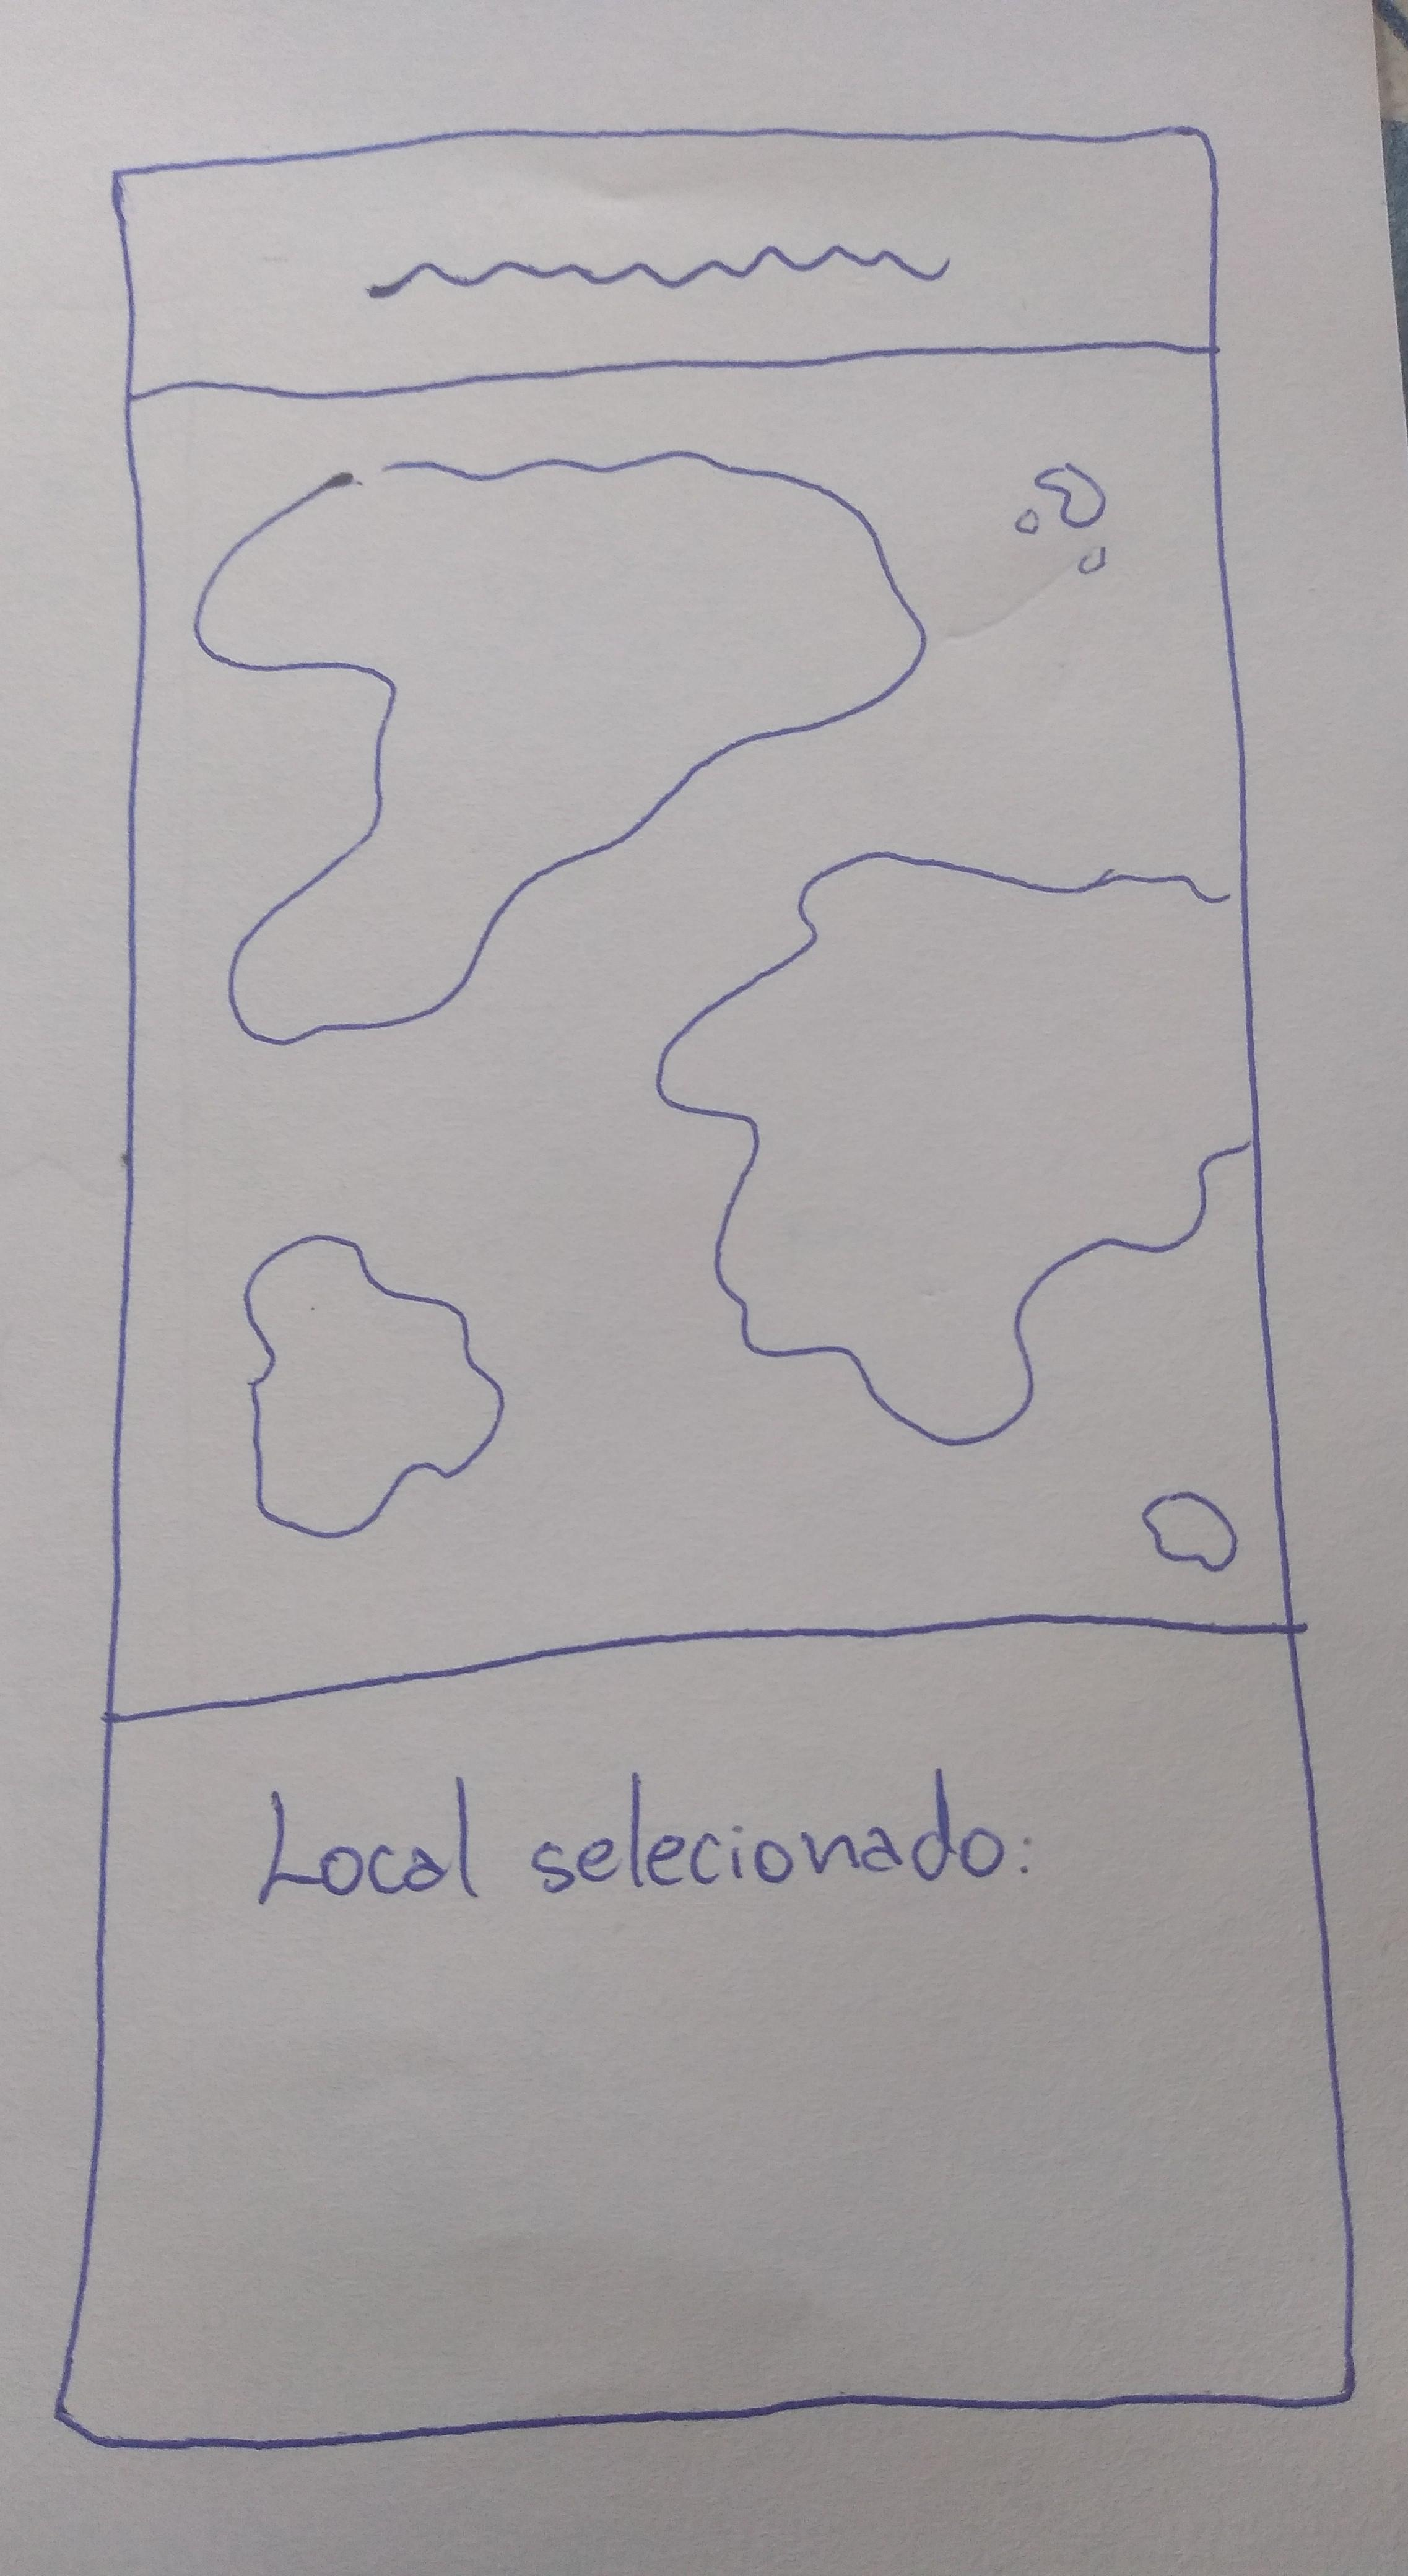Label: (251, 1768, 1033, 1910), (364, 236, 959, 305)
Map: (104, 340, 1288, 1720)
Screen: (52, 128, 1356, 2453)
